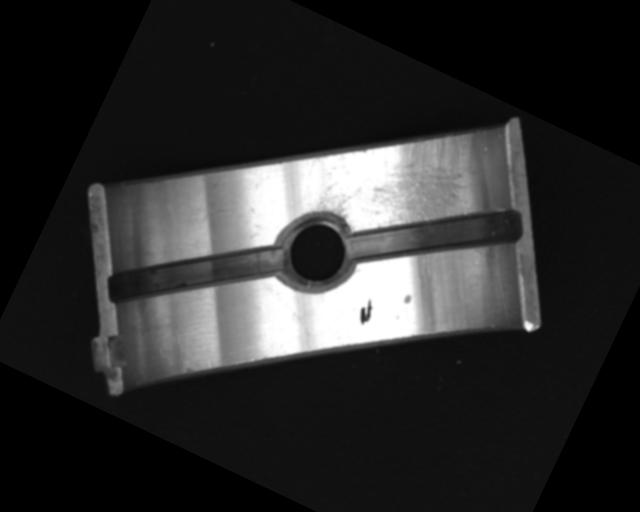blot: (354, 296, 378, 327)
bruise: (401, 292, 413, 306)
gap: (100, 187, 292, 362), (347, 153, 531, 317)
hole: (262, 200, 367, 304)
scratch: (307, 83, 496, 272)
